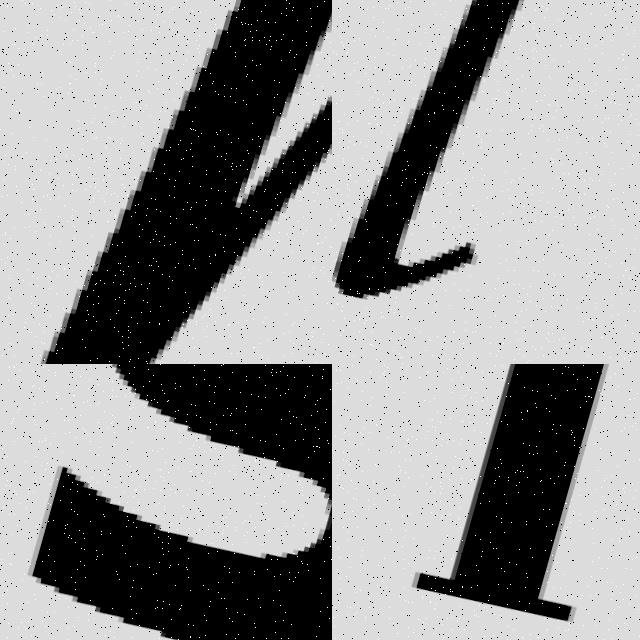F: (399, 364, 640, 640)
L: (332, 0, 620, 345)
S: (1, 364, 332, 640)
V: (7, 0, 332, 364)
